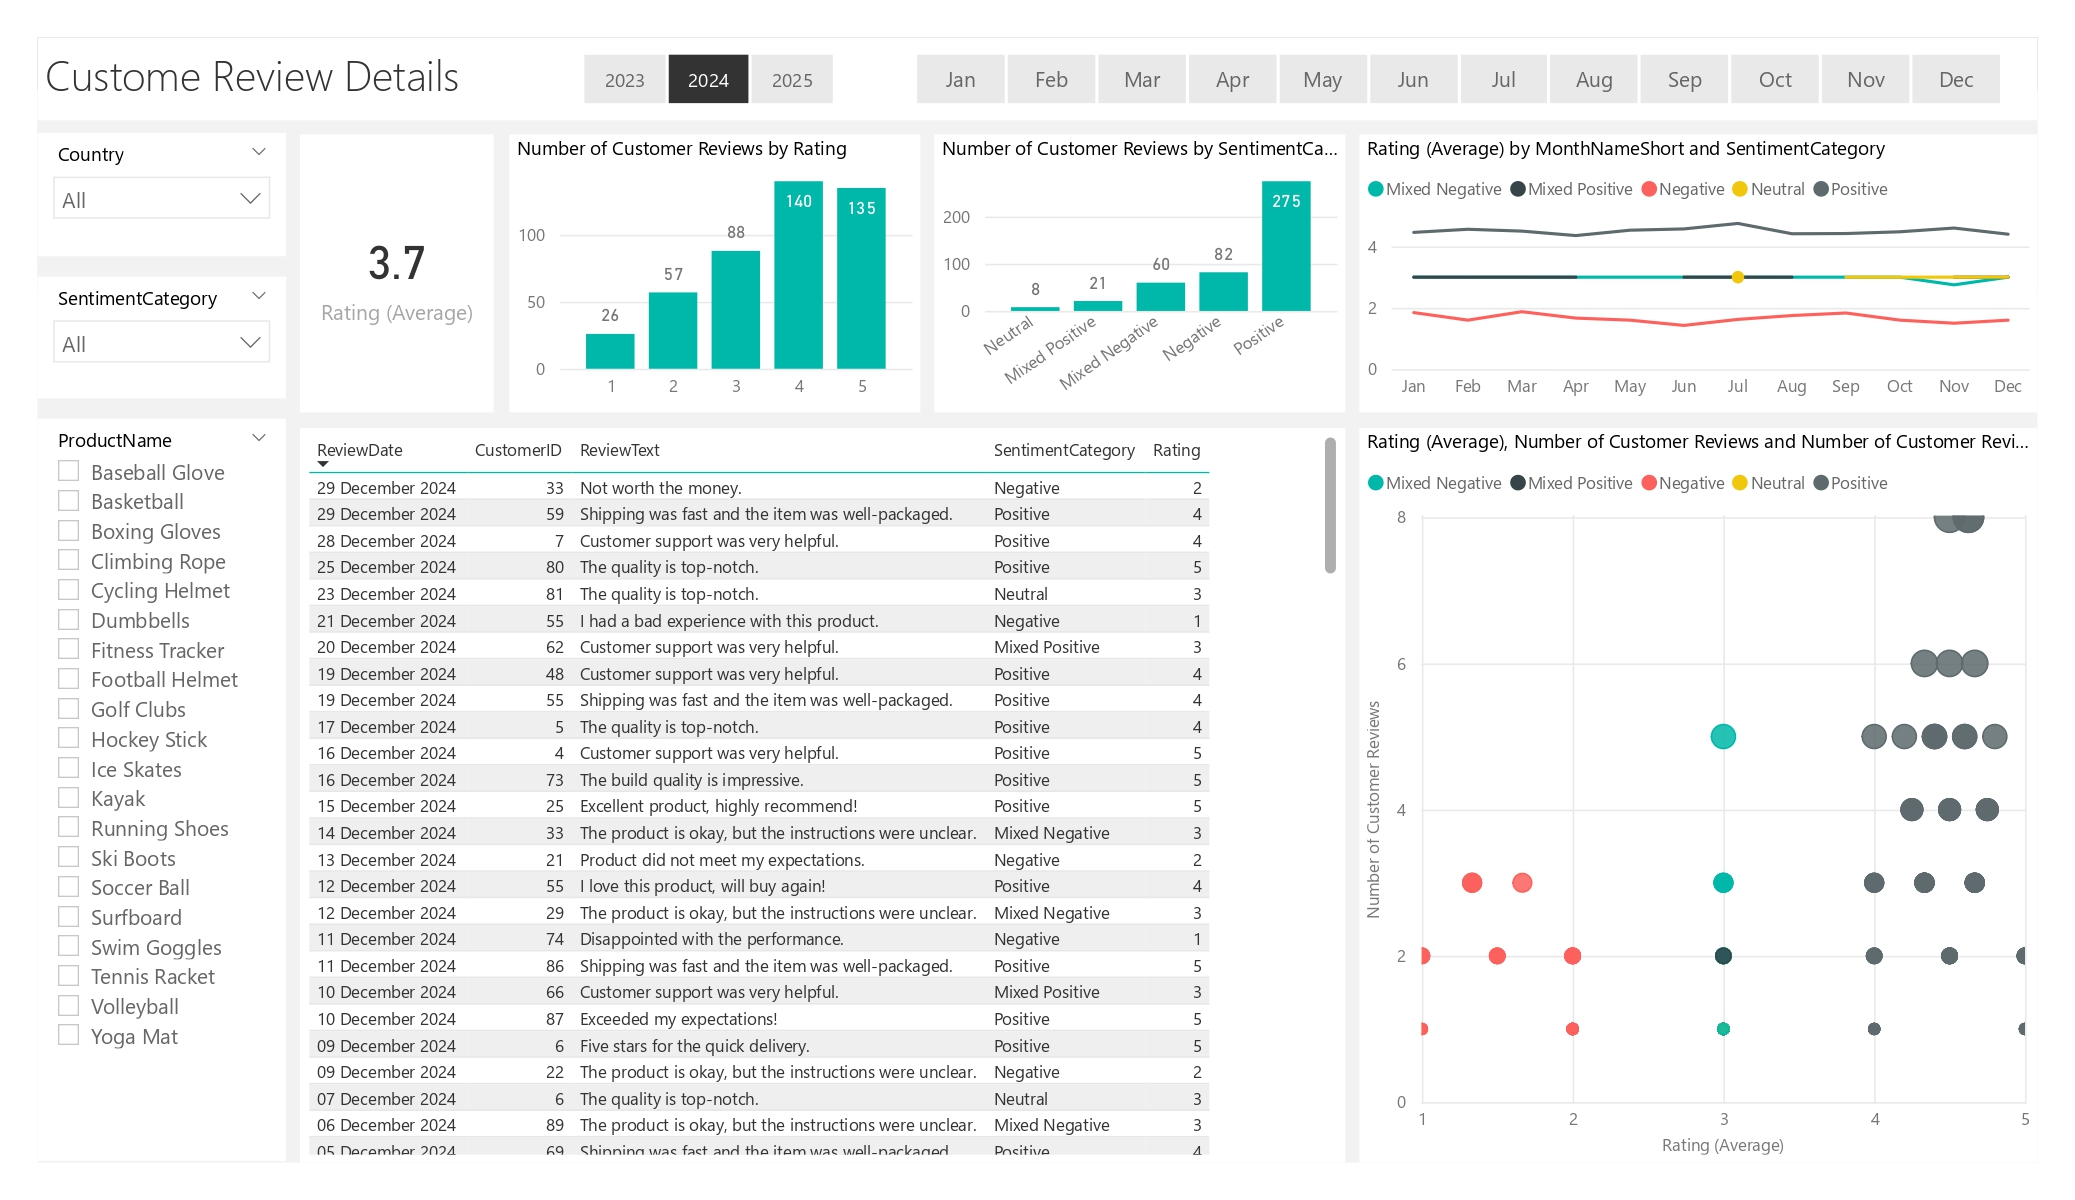

This screenshot's page, from the dashboard's own definition file:
{"tool":"powerbi","page":{"name":"Customer Review Details","canvas":[1280,720],"ordinal":3},"visuals":[{"type":"textbox","box":[0,0,1280,52.6],"z":0},{"type":"slicer","fields":{"Values":["dim_products.ProductName"]},"box":[0,244.2,159.3,475.3],"z":1000},{"type":"card","fields":{"Values":["_Calculations.Rating (Average)"]},"box":[168.5,61.9,123.8,178.5],"z":2000},{"type":"slicer","fields":{"Values":["Calendar.MonthNameShort"]},"box":[536.8,4.1,743.2,44.4],"z":3000},{"type":"lineChart","fields":{"Category":["Calendar.MonthNameShort"],"Y":["_Calculations.Rating (Average)"],"Series":["fact_customer_reviews_with_sentiment.SentimentCategory"]},"box":[846.2,62,434.1,178.4],"z":4000},{"type":"slicer","fields":{"Values":["Calendar.Year"]},"box":[324.1,4.1,208.5,44.4],"z":5000},{"type":"tableEx","fields":{"Values":["fact_customer_reviews_with_sentiment.ReviewDate","fact_customer_reviews_with_sentiment.CustomerID","fact_customer_reviews_with_sentiment.ReviewText","fact_customer_reviews_with_sentiment.SentimentCategory","Sum(fact_customer_reviews_with_sentiment.Rating)"]},"box":[168.5,249.5,668.4,470.8],"z":6000},{"type":"columnChart","fields":{"Category":["fact_customer_reviews_with_sentiment.Rating"],"Y":["_Calculations.Number of Customer Reviews"]},"box":[302.4,62,262.4,178.4],"z":7000},{"type":"columnChart","fields":{"Category":["fact_customer_reviews_with_sentiment.SentimentCategory"],"Y":["_Calculations.Number of Customer Reviews"]},"box":[574.3,62,262.4,178.4],"z":8000},{"type":"slicer","fields":{"Values":["dim_customers.Country"]},"box":[0,61.4,159.3,78.3],"z":9000},{"type":"slicer","fields":{"Values":["fact_customer_reviews_with_sentiment.SentimentCategory"]},"box":[0,152.8,159.3,78.3],"z":10000},{"type":"scatterChart","fields":{"Category":["dim_customers.CustomerID"],"Series":["fact_customer_reviews_with_sentiment.SentimentCategory"],"X":["_Calculations.Rating (Average)"],"Y":["_Calculations.Number of Customer Reviews"],"Size":["_Calculations.Number of Customer Reviews"]},"box":[846,249.5,434.4,470.8],"z":11000}]}

Visuals, with their boxes on the page's 1280x720 design canvas (x1, y1, x2, y2). These are canvas units, not pixel positions in the 2075x1200 screenshot, which may show the page scaled, cropped or inside an application window:
textbox: {"left": 0, "top": 0, "right": 1280, "bottom": 53}
slicer - dim_products.ProductName: {"left": 0, "top": 244, "right": 159, "bottom": 720}
card - _Calculations.Rating (Average): {"left": 168, "top": 62, "right": 292, "bottom": 240}
slicer - Calendar.MonthNameShort: {"left": 537, "top": 4, "right": 1280, "bottom": 48}
lineChart - Calendar.MonthNameShort x _Calculations.Rating (Average): {"left": 846, "top": 62, "right": 1280, "bottom": 240}
slicer - Calendar.Year: {"left": 324, "top": 4, "right": 533, "bottom": 48}
tableEx - fact_customer_reviews_with_sentiment.ReviewDate x fact_customer_reviews_with_sentiment.CustomerID: {"left": 168, "top": 250, "right": 837, "bottom": 720}
columnChart - fact_customer_reviews_with_sentiment.Rating x _Calculations.Number of Customer Reviews: {"left": 302, "top": 62, "right": 565, "bottom": 240}
columnChart - fact_customer_reviews_with_sentiment.SentimentCategory x _Calculations.Number of Customer Reviews: {"left": 574, "top": 62, "right": 837, "bottom": 240}
slicer - dim_customers.Country: {"left": 0, "top": 61, "right": 159, "bottom": 140}
slicer - fact_customer_reviews_with_sentiment.SentimentCategory: {"left": 0, "top": 153, "right": 159, "bottom": 231}
scatterChart - dim_customers.CustomerID x fact_customer_reviews_with_sentiment.SentimentCategory: {"left": 846, "top": 250, "right": 1280, "bottom": 720}
